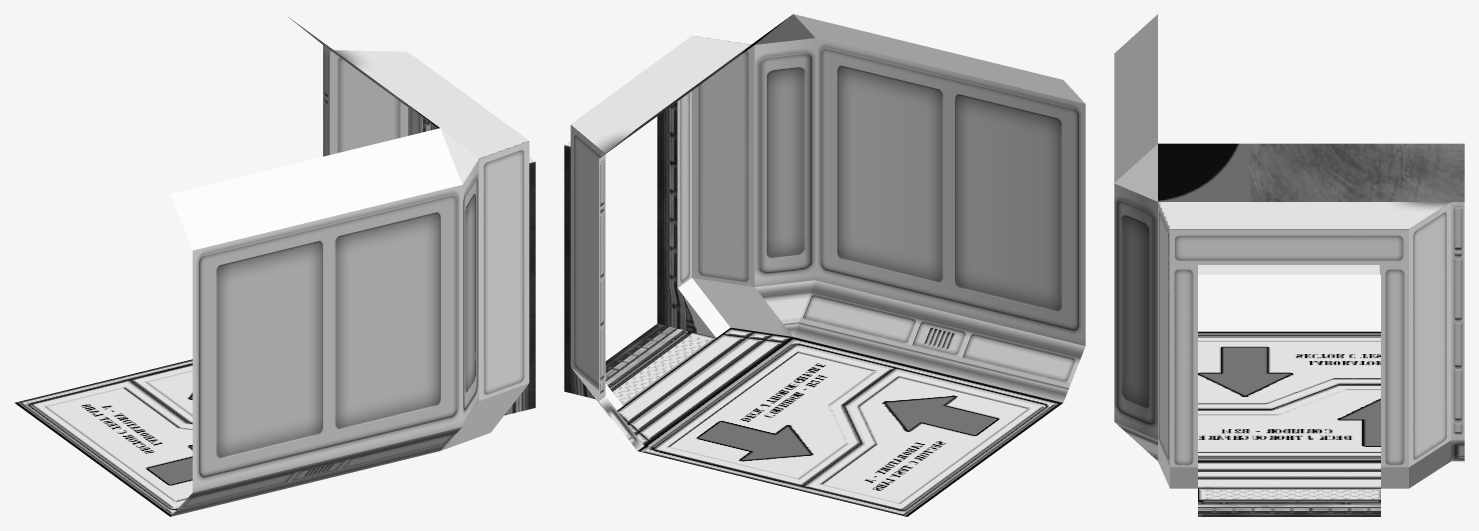
File: Sect_Corner_3_Door.FBX
3 views of the same model, side by side, from view 1: azimuth 30°, elevation 25°; view 2: azimuth 150°, elevation 25°; view 3: azimuth 270°, elevation 25° (orthographic).
Visible parts, largest first — view 1: Sect_Corner_B_001, Sect_Floor_CornerB_001; view 2: Sect_Corner_B_001, Sect_Floor_CornerB_001; view 3: Sect_Corner_B_001, Sect_Floor_CornerB_001.
Boxes of the visible parts, box(x1,y1,x2,y2) form: Sect_Corner_B_001: box(170, 17, 535, 516); Sect_Floor_CornerB_001: box(14, 359, 192, 516); Sect_Corner_B_001: box(564, 14, 1085, 450); Sect_Floor_CornerB_001: box(605, 323, 1062, 516); Sect_Corner_B_001: box(1114, 14, 1464, 488); Sect_Floor_CornerB_001: box(1198, 331, 1380, 516).
Size of the model in its own units: 5 by 4 by 4.
